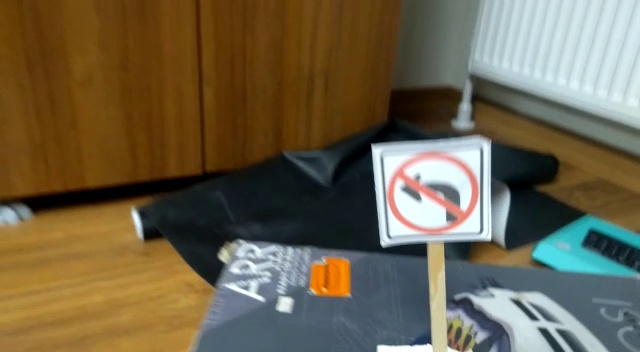sola_donulmez: (380, 146, 480, 239)
